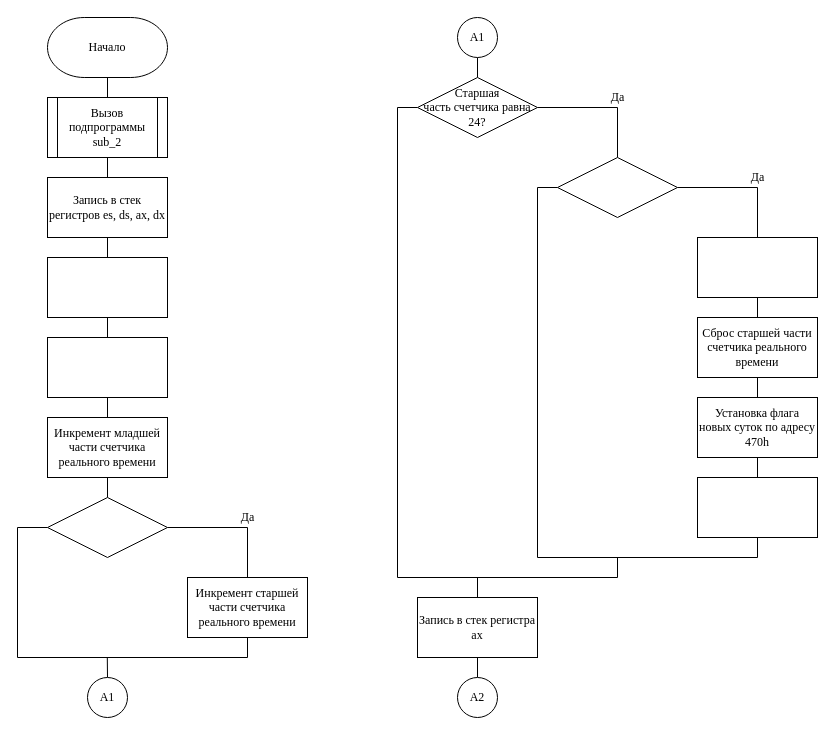
Image size: 835x735. Some labels were removed from this diagram. Each missing label, with the centre of its shape:
"Загрузить в регистр ds адрес области данных bios" goes at pixel 107 287.
"Загрузить в регистр es адрес таблицы векторов прерываний" goes at pixel 107 367.
"Младшая часть счетчика равна 176?" goes at pixel 617 187.
"Переполнение младшей части счетчика?" goes at pixel 107 527.
"Сброс младшей части счетчика реального времени" goes at pixel 757 267.
"Установка 3го бита в регистре al" goes at pixel 757 507.
